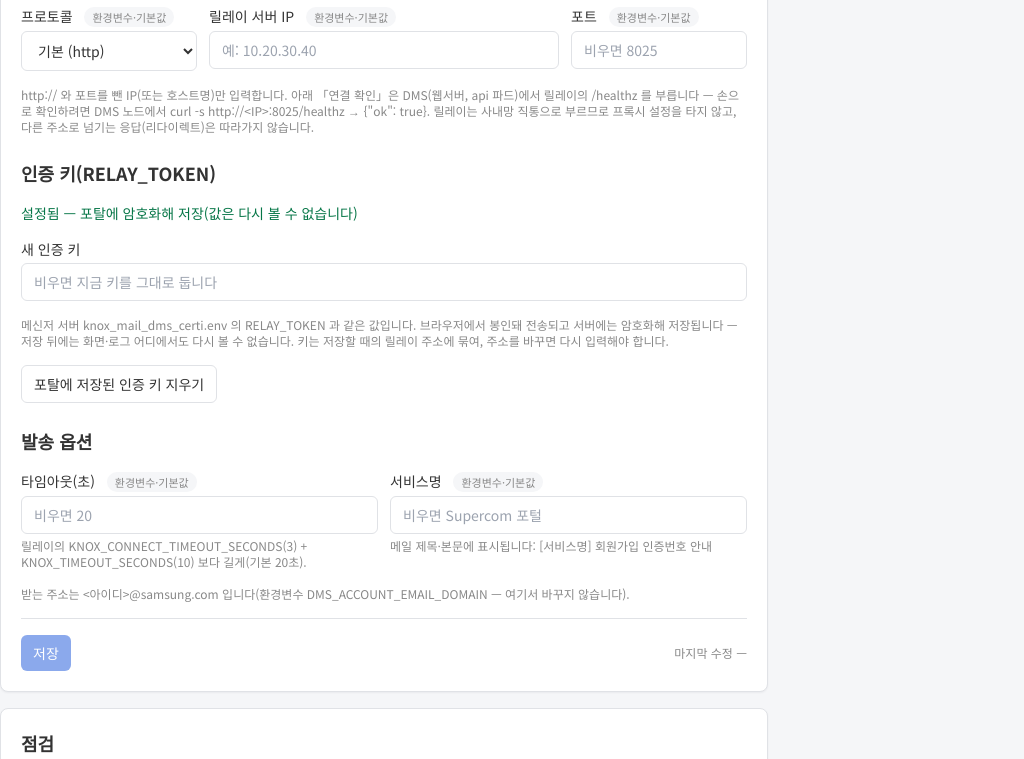
Test case: env 주소일 때 키 지우기는 환경변수 키로 돌아간다고 안내
This screenshot has width=1024, height=759.
(page scrolled)
Click the button "포탈에 저장된 인증 키 지우기".
click(119, 384)  # box [21,365,217,403]
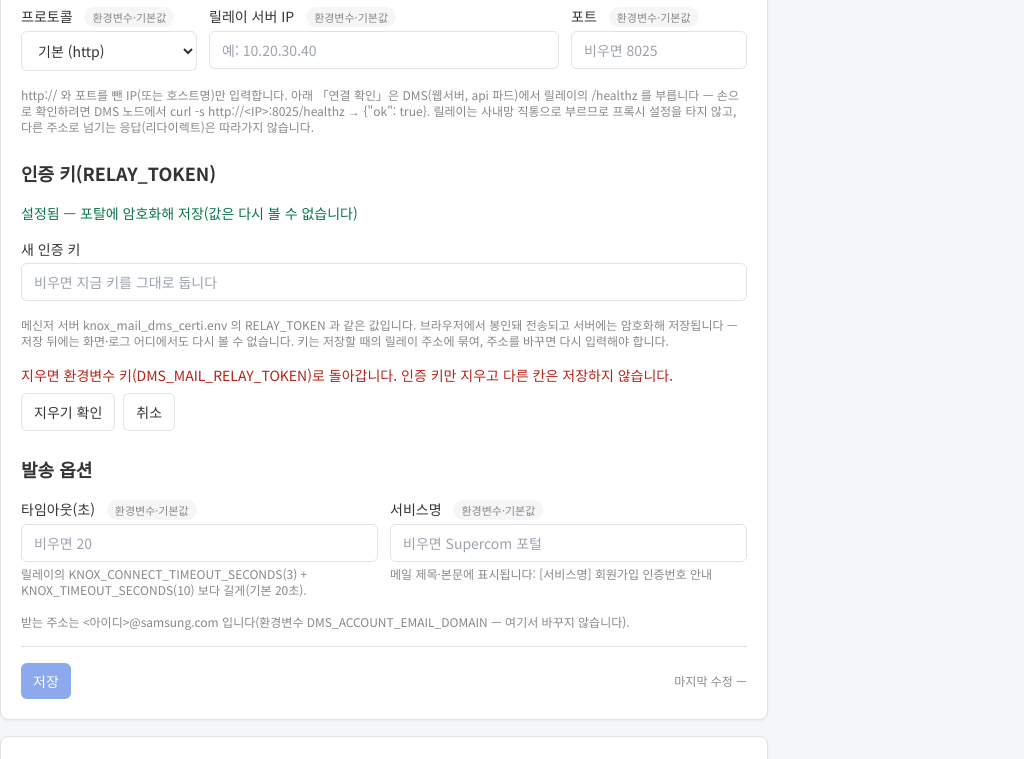
Check: the text "환경변수 키(DMS_MAIL_RELAY_TOKEN)로 돌아갑니다" is shown, box [21,365,397,385]
